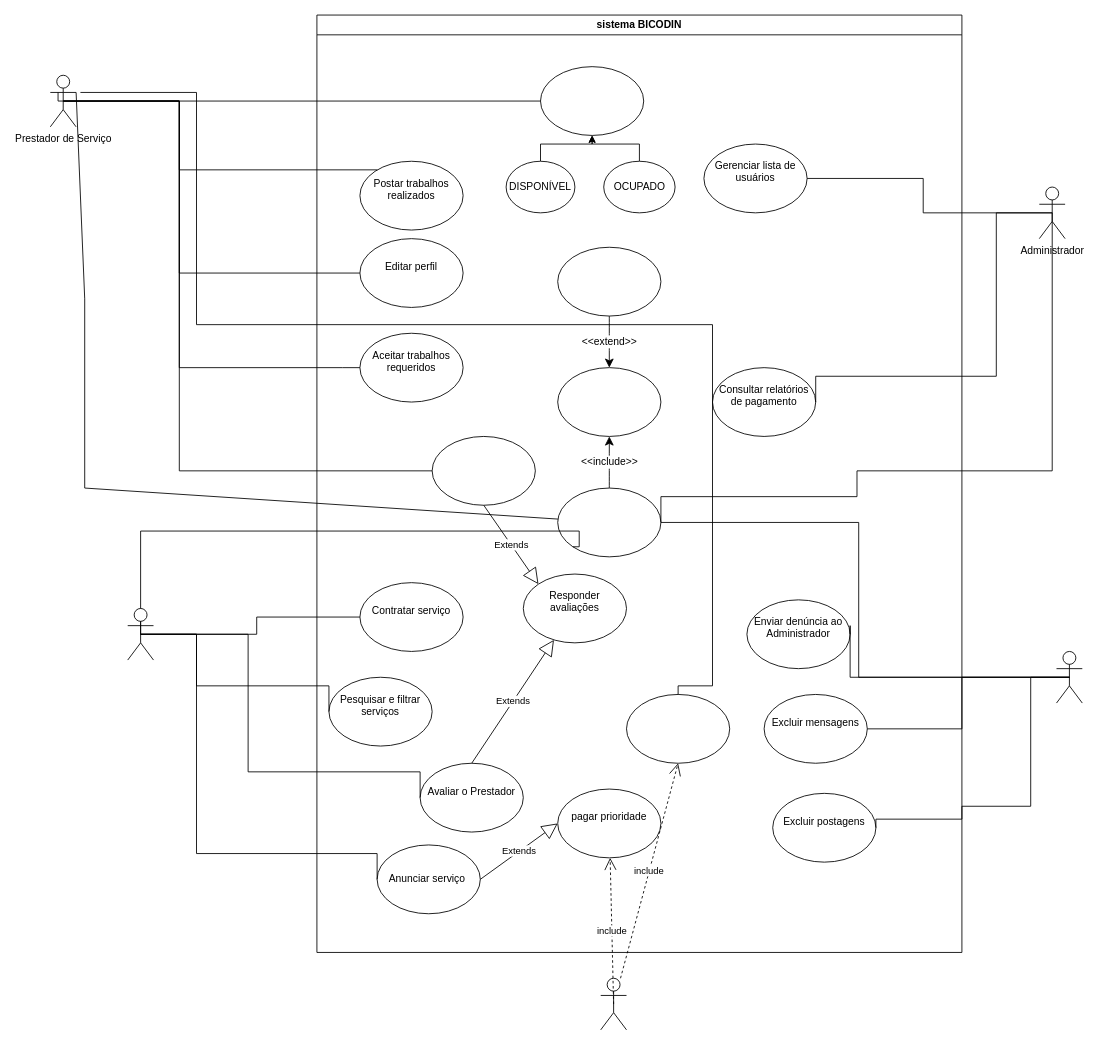
This 1109x1063 diagram has some shape labels left out. The centre of each missing label's shape, as x and y in pixels:
"Atualizar status" belongs at point (592, 100).
"Avaliar o Requerente" belongs at point (483, 470).
"Fazer login" belongs at point (609, 522).
"Moderador" belongs at point (1069, 677).
"Mostrar mensagem de falha." belongs at point (609, 281).
"Módulo de Pagamento" belongs at point (613, 1003).
"Pagar para aparecer no topo da busca" belongs at point (678, 728).
"Requerente de Serviço" belongs at point (140, 634).
"Verificar Credenciais" belongs at point (609, 401).
